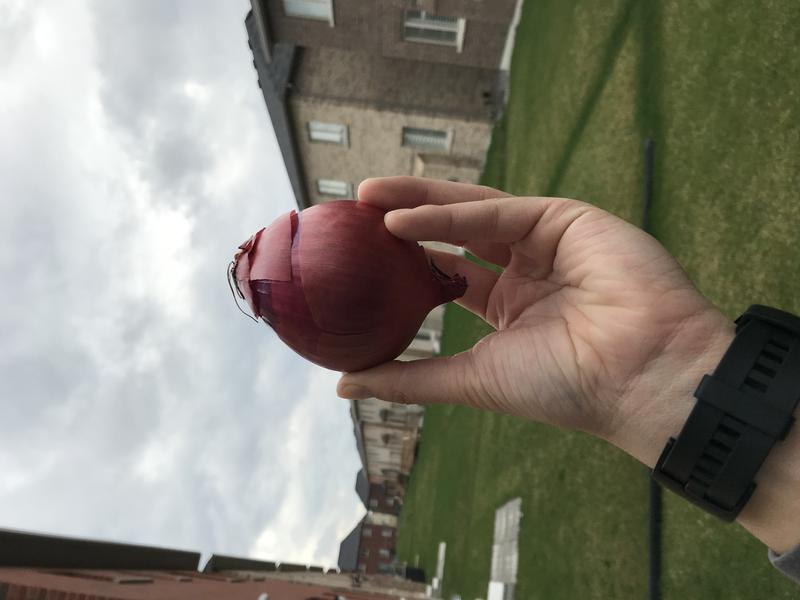purple_onion: (219, 192, 481, 374)
